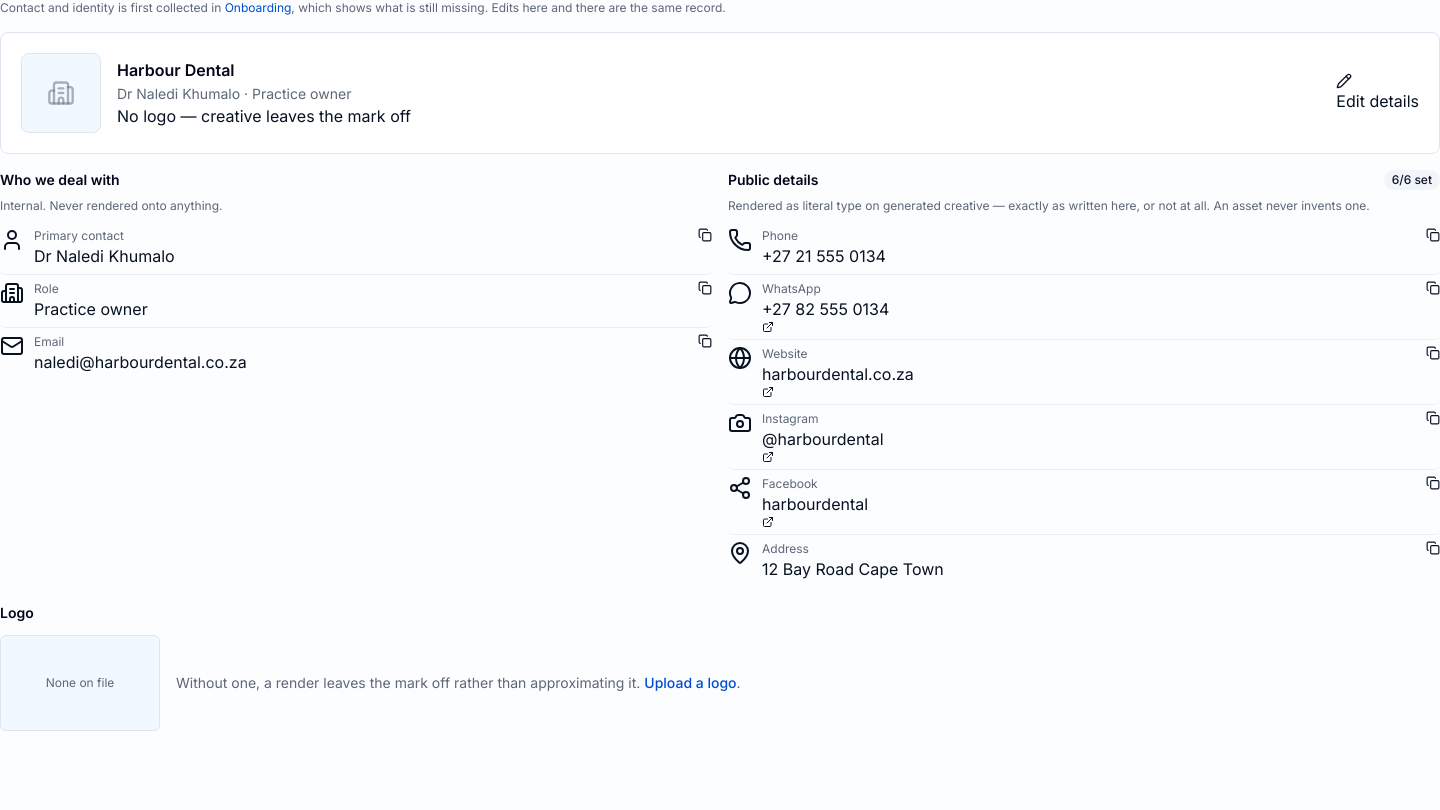
Test: ContactPanel — the logo › opens the editor from the empty-logo prompt
The width and height of the screenshot is (1440, 810).
Click the button "Upload a logo": (690,683) [644,673,737,693]
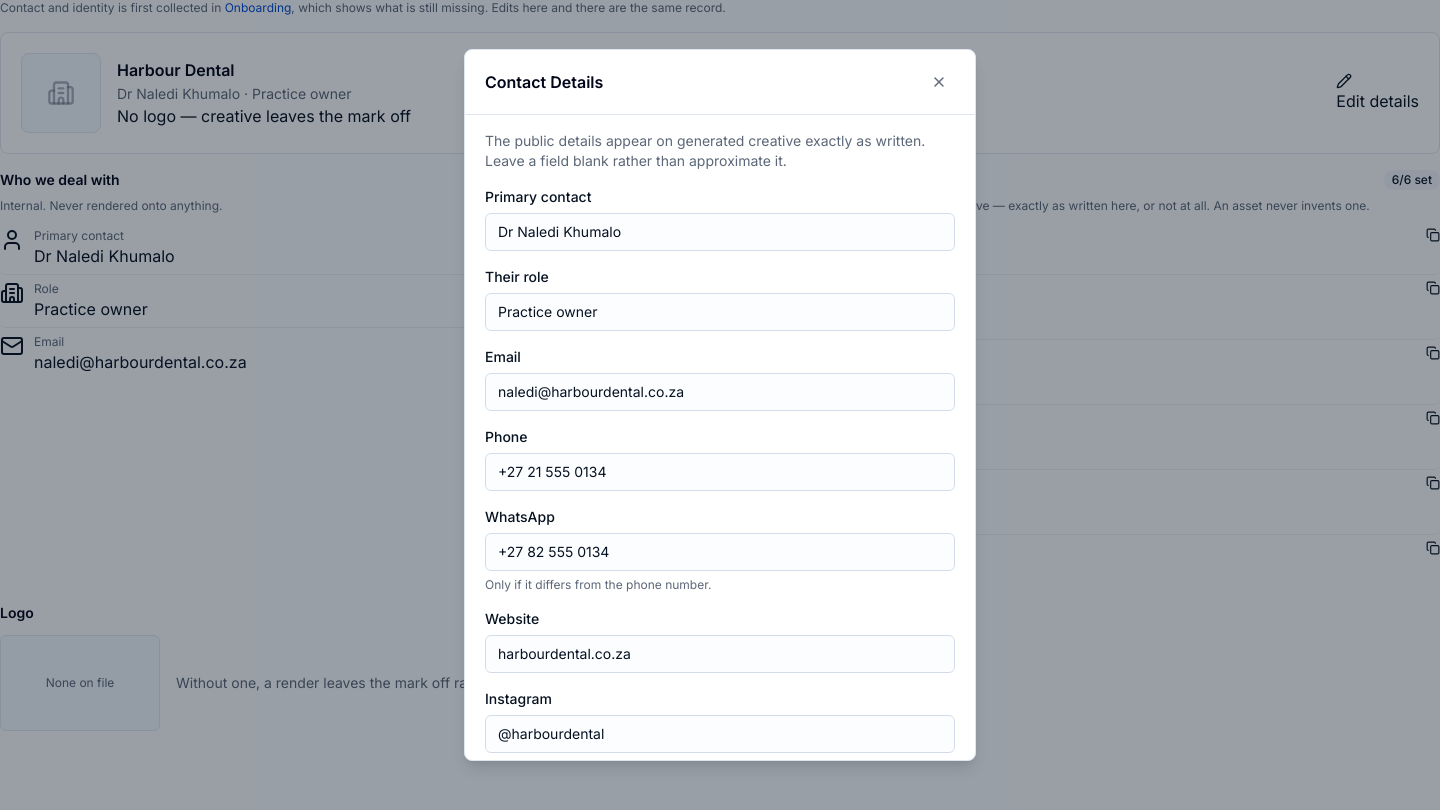
Check: the text "Leave a field blank" is shown, box [485,132,925,169]
